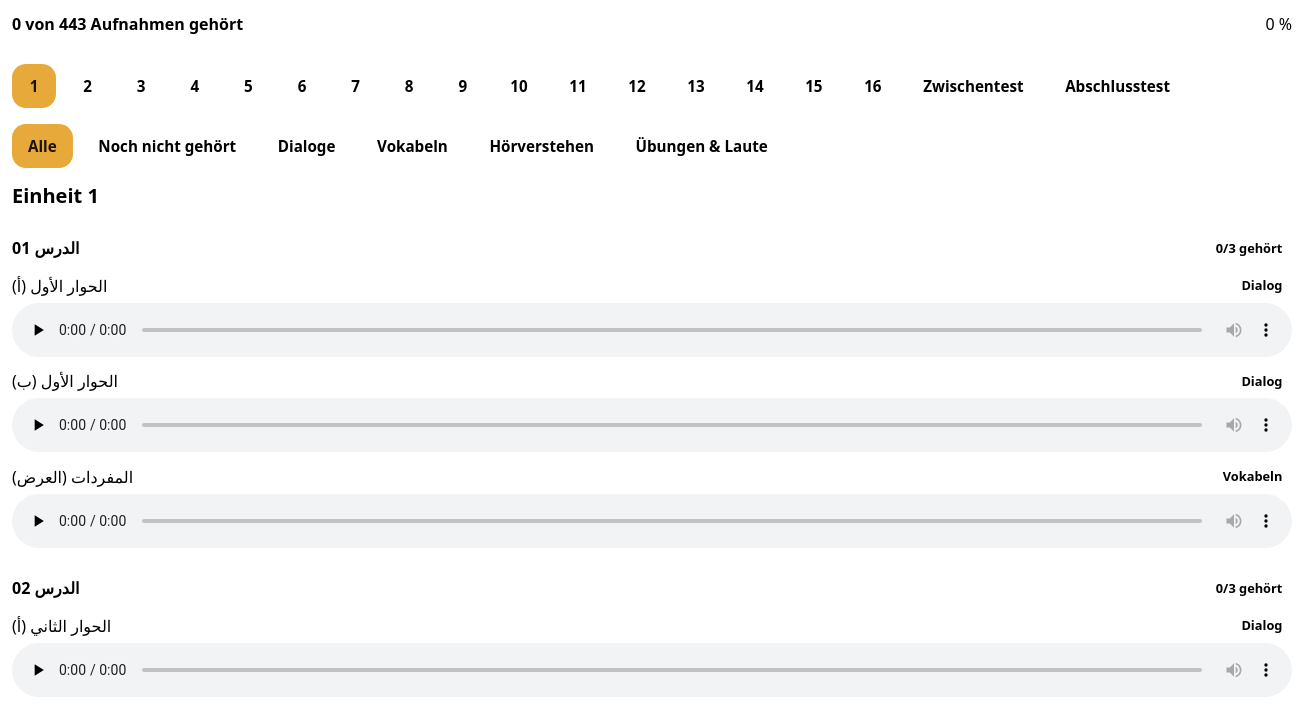
Test: Publisher audio (integration) › switches units and filters by kind
Expected: the heading "Einheit 1" is shown, [12, 182, 99, 209]
Click the button "4" at coordinates (195, 86), box [173, 64, 217, 108]
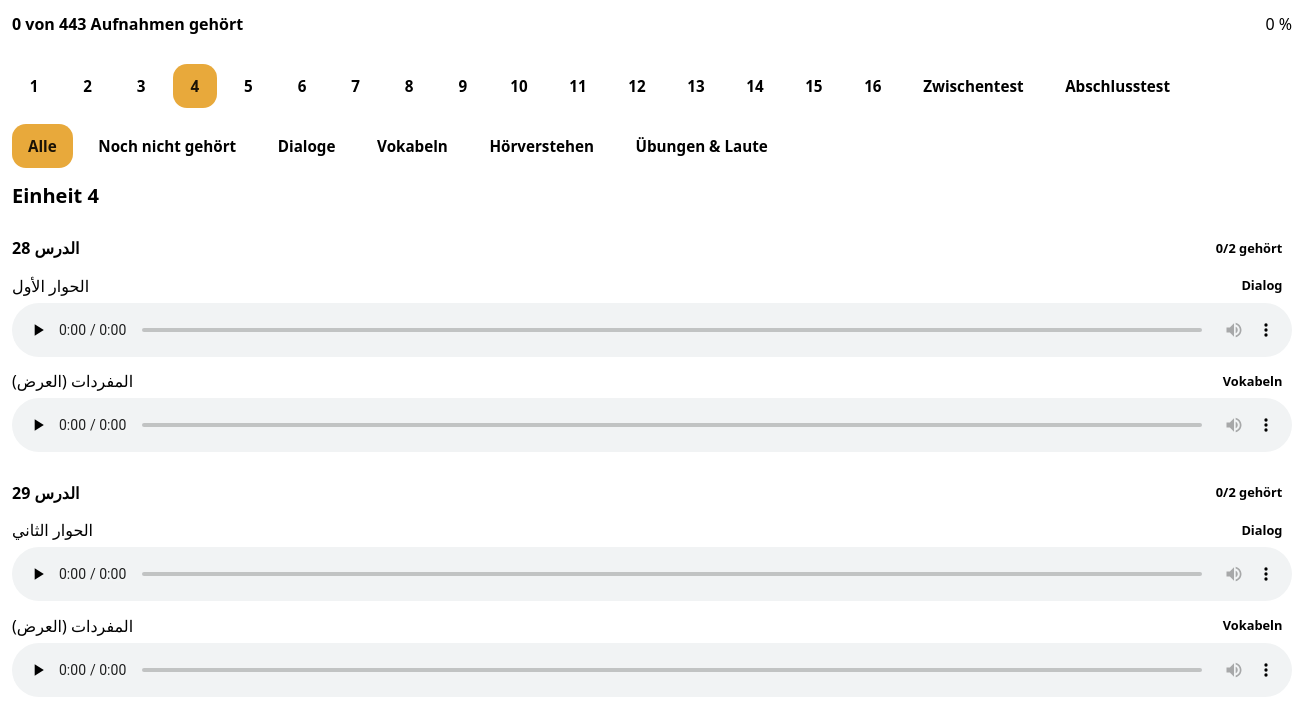
Now the heading "Einheit 4" is shown, box [12, 182, 99, 209]
Click the button "Vokabeln" at coordinates (412, 146), box [361, 124, 464, 168]
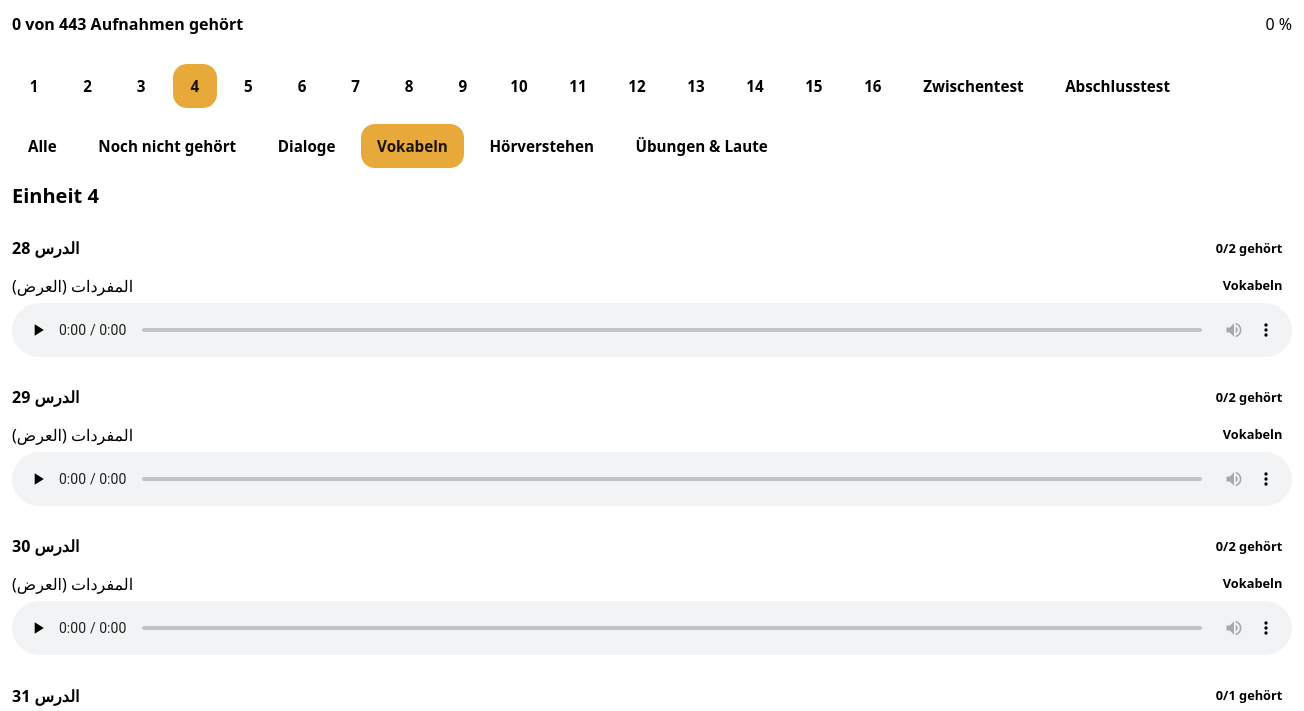
Click the button with aria-label "Abschlusstest, " at coordinates (1118, 86), box [1049, 64, 1186, 108]
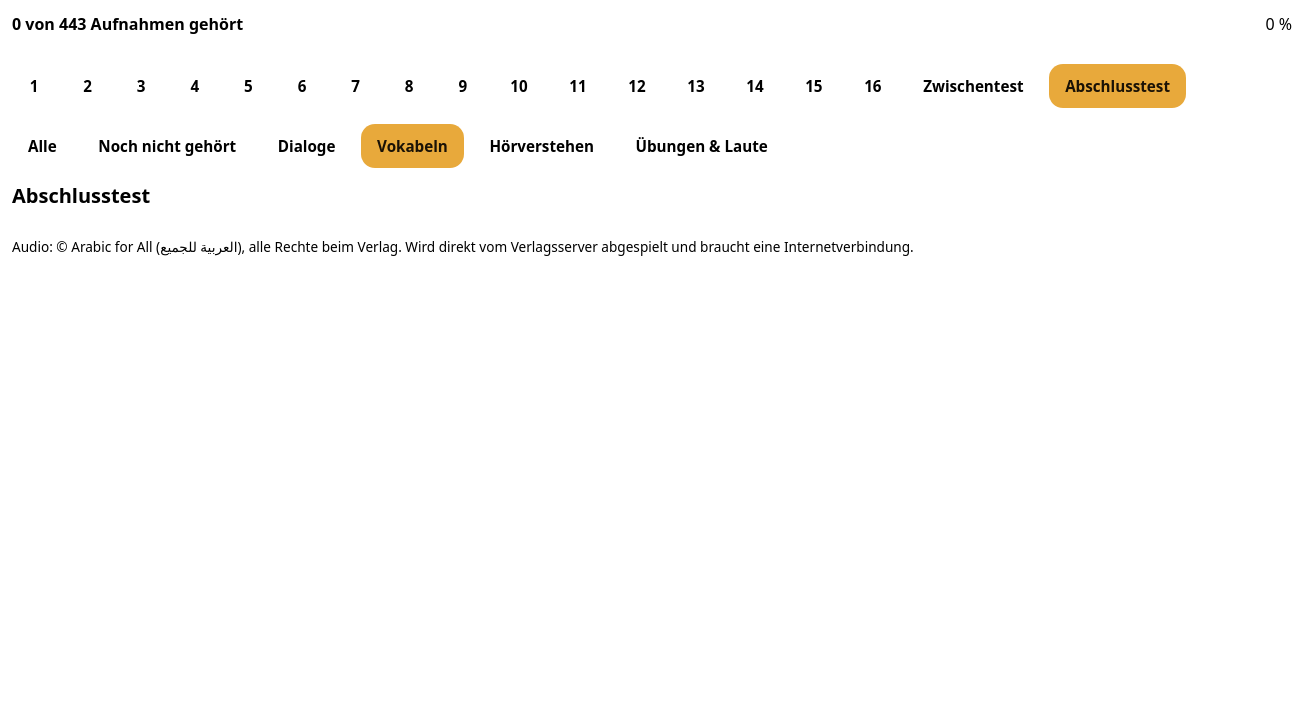
Now the heading "Abschlusstest" is shown, box [12, 182, 150, 209]
